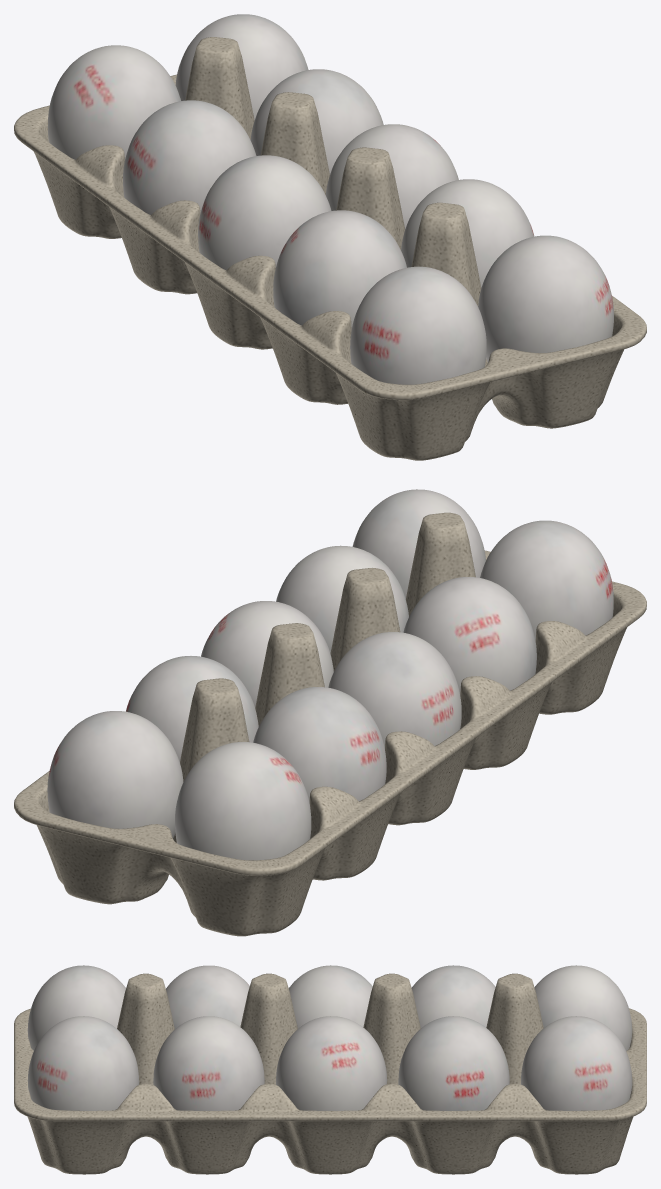
The model's file is eggs.fbx.
3 renders of one model, top to bottom at view 1: azimuth 30°, elevation 25°; view 2: azimuth 150°, elevation 25°; view 3: azimuth 270°, elevation 25°, orthographic. The views are drawn at different scales.
Parts seen in each view (by area): view 1: defaultMaterial; view 2: defaultMaterial; view 3: defaultMaterial.
Part boxes in pixels (<box>): defaultMaterial: <box>14,14,646,460</box>; defaultMaterial: <box>14,489,646,936</box>; defaultMaterial: <box>14,965,646,1174</box>.
Bounding box in the file's own units: 1031 × 648 × 2464.
